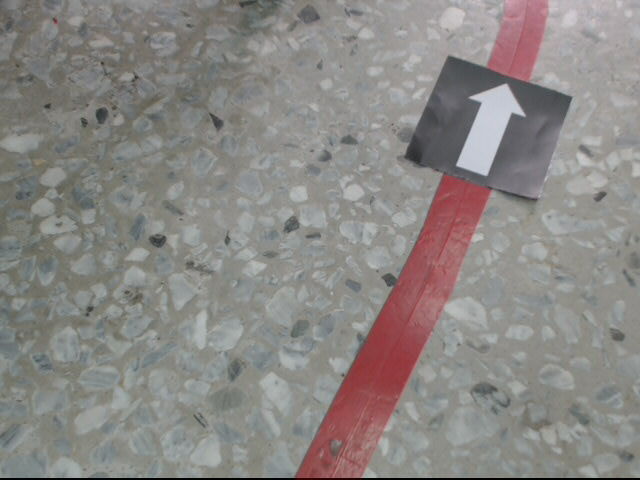straight: (408, 56, 574, 200)
